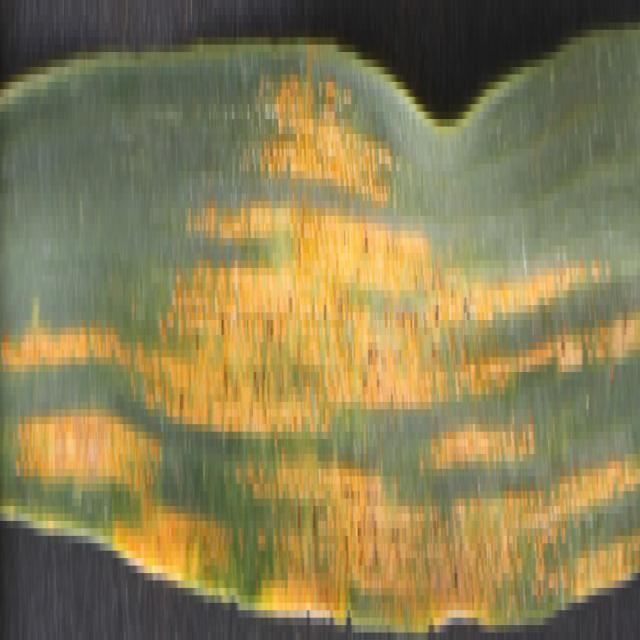leaf rust: (1, 52, 637, 588)
